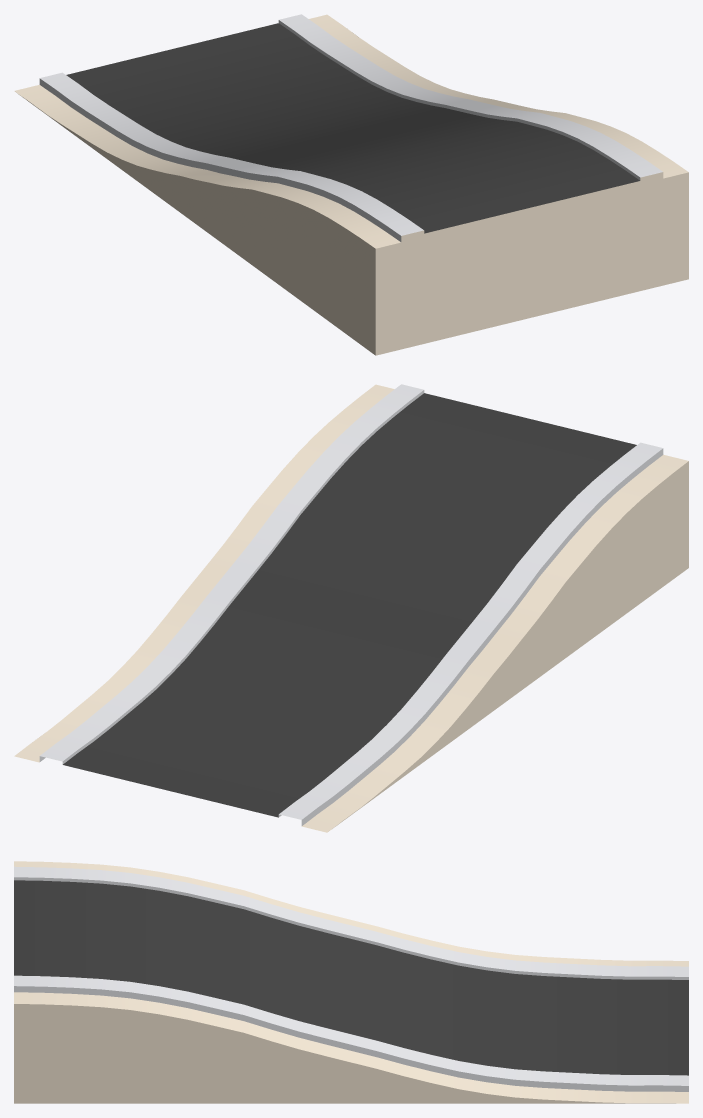
Rendered from roadRampLongCurvedWall.fbx.
The picture shows the model from 3 angles, top to bottom: view 1: azimuth 30°, elevation 25°; view 2: azimuth 150°, elevation 25°; view 3: azimuth 270°, elevation 25°; orthographic projection. The views are drawn at different scales.
Visible parts, largest first — view 1: roadRampLongCurvedWall001; view 2: roadRampLongCurvedWall001; view 3: roadRampLongCurvedWall001.
Part boxes in pixels (x1,y1,x2,y2): roadRampLongCurvedWall001: (14,14,688,355); roadRampLongCurvedWall001: (14,384,688,832); roadRampLongCurvedWall001: (14,861,688,1103).
Bounding box in the file's own units: 1000 × 2000 × 346.
